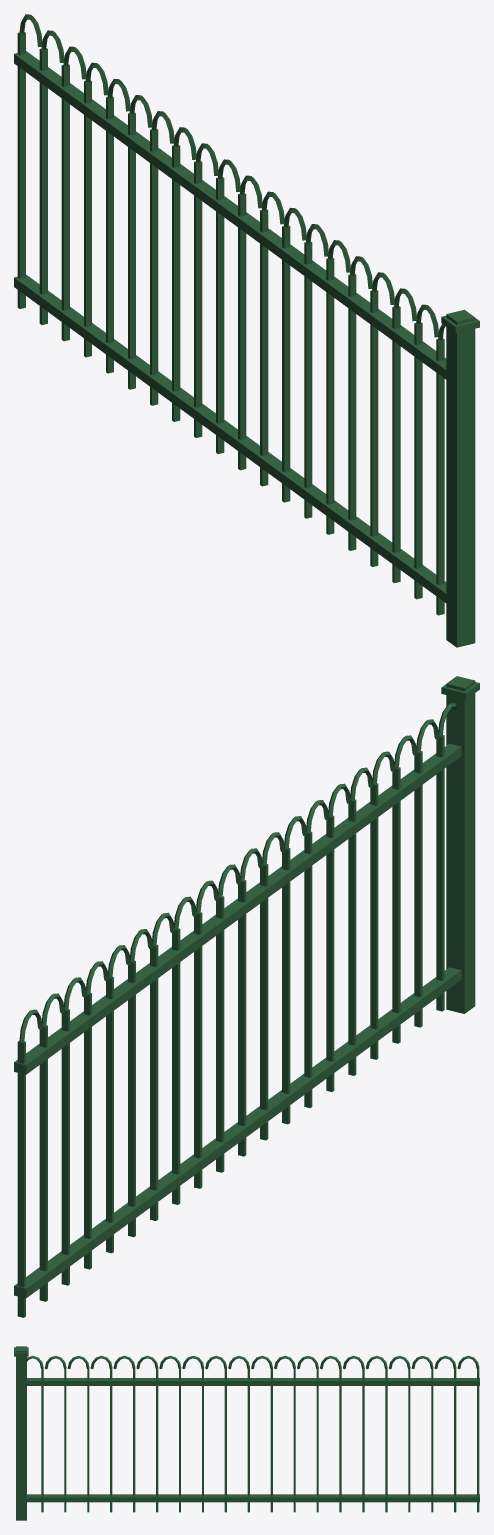
The model's file is sport.play.bowtop_fence_green.glb.
The picture shows the model from 3 angles, top to bottom: view 1: azimuth 30°, elevation 25°; view 2: azimuth 150°, elevation 25°; view 3: azimuth 270°, elevation 25°; orthographic projection. The views are drawn at different scales.
Parts seen in each view (by area): view 1: main__paint_364; view 2: main__paint_364; view 3: main__paint_364.
Boxes of the visible parts, left/top/right/bottom form: main__paint_364: left=14, top=14, right=479, bottom=647; main__paint_364: left=14, top=676, right=479, bottom=1317; main__paint_364: left=14, top=1346, right=479, bottom=1520.
Bounding box in the file's own units: 0.08 × 1.02 × 2.54.
